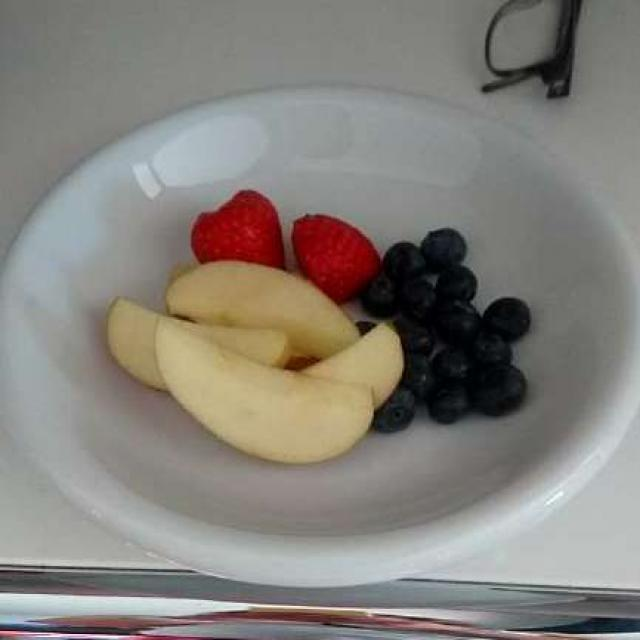apple: (94, 253, 411, 468)
blueberries: (360, 224, 537, 437)
strawberries: (187, 189, 384, 307)
